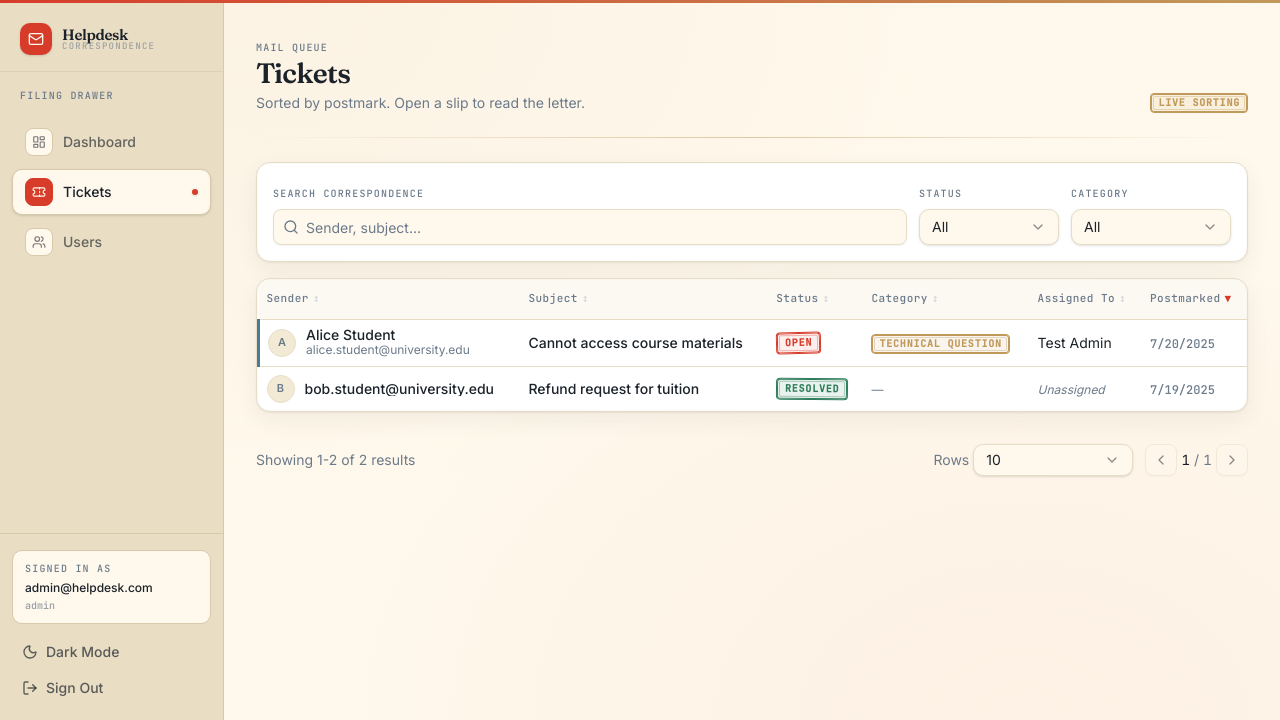
Scenario: TicketsTable filtering › clears all filters when Clear is clicked
This screenshot has width=1280, height=720.
Click the dropdown named "Status" at (989, 227), box [919,209,1059,245]
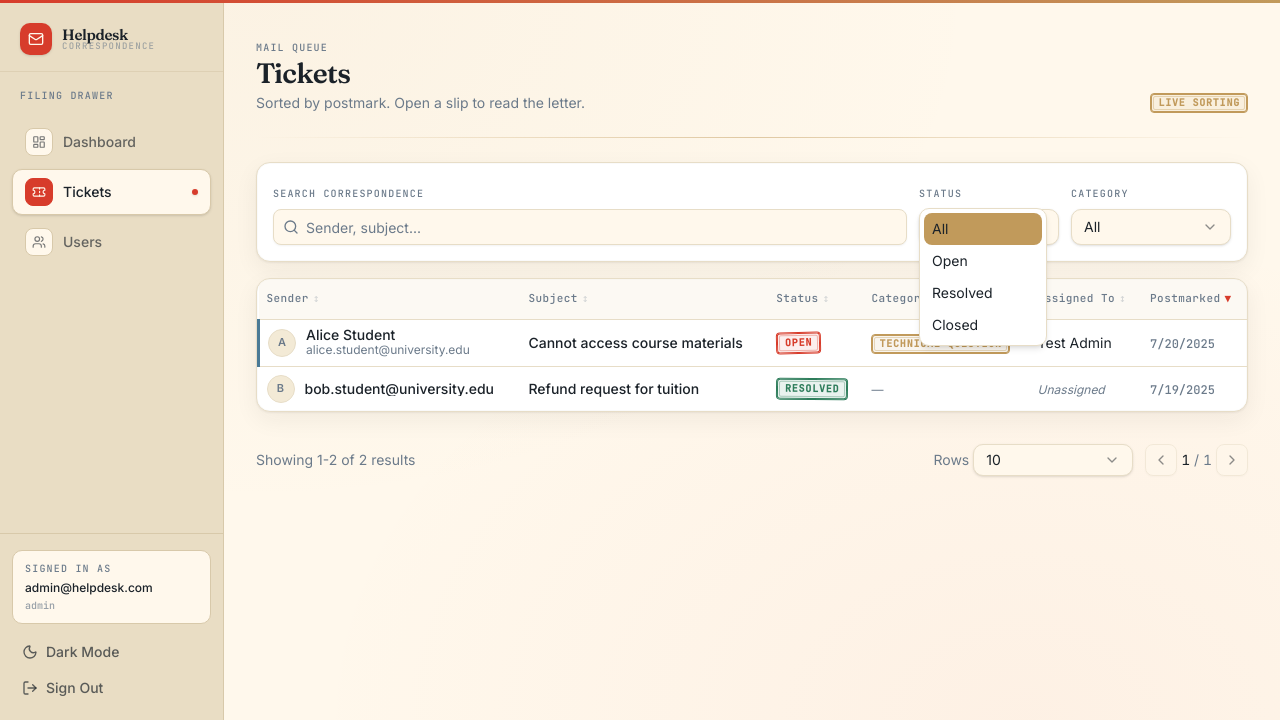
Expected: the option "Resolved" is shown
Click the option "Resolved" at (962, 292), box [932,284,992,301]
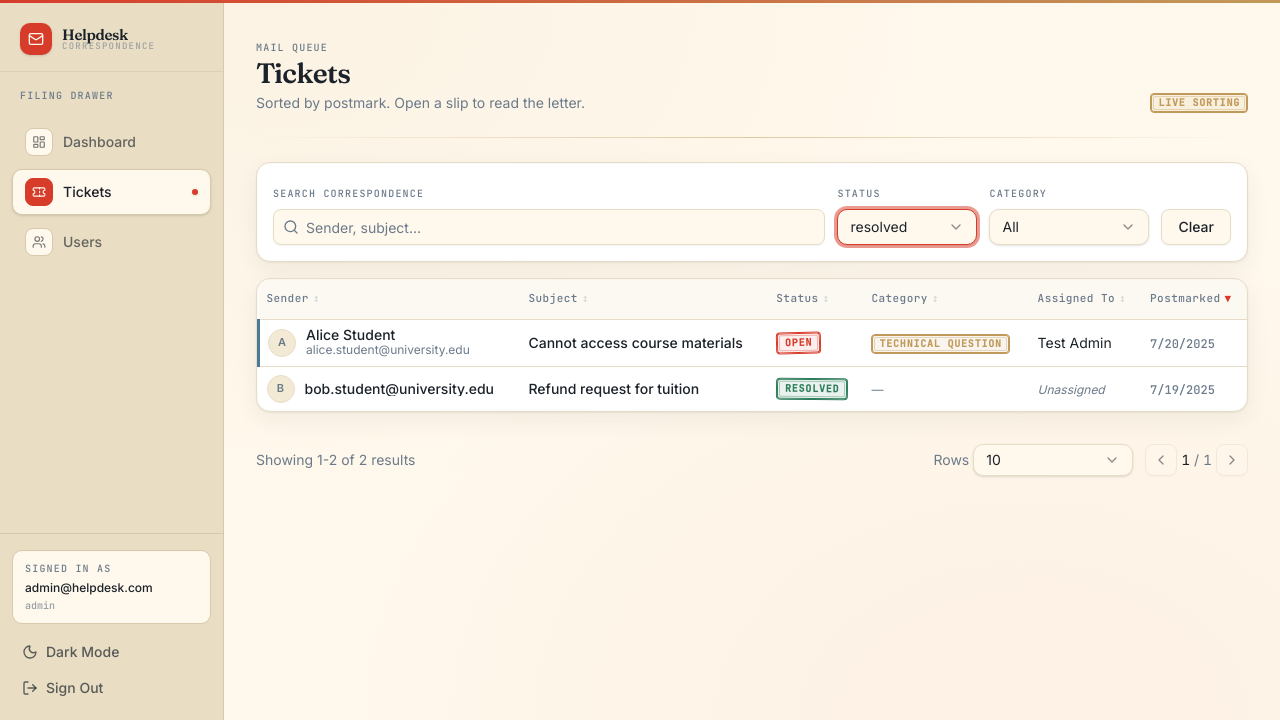
Click the button "Clear" at (1196, 227), box [1162,209,1231,245]
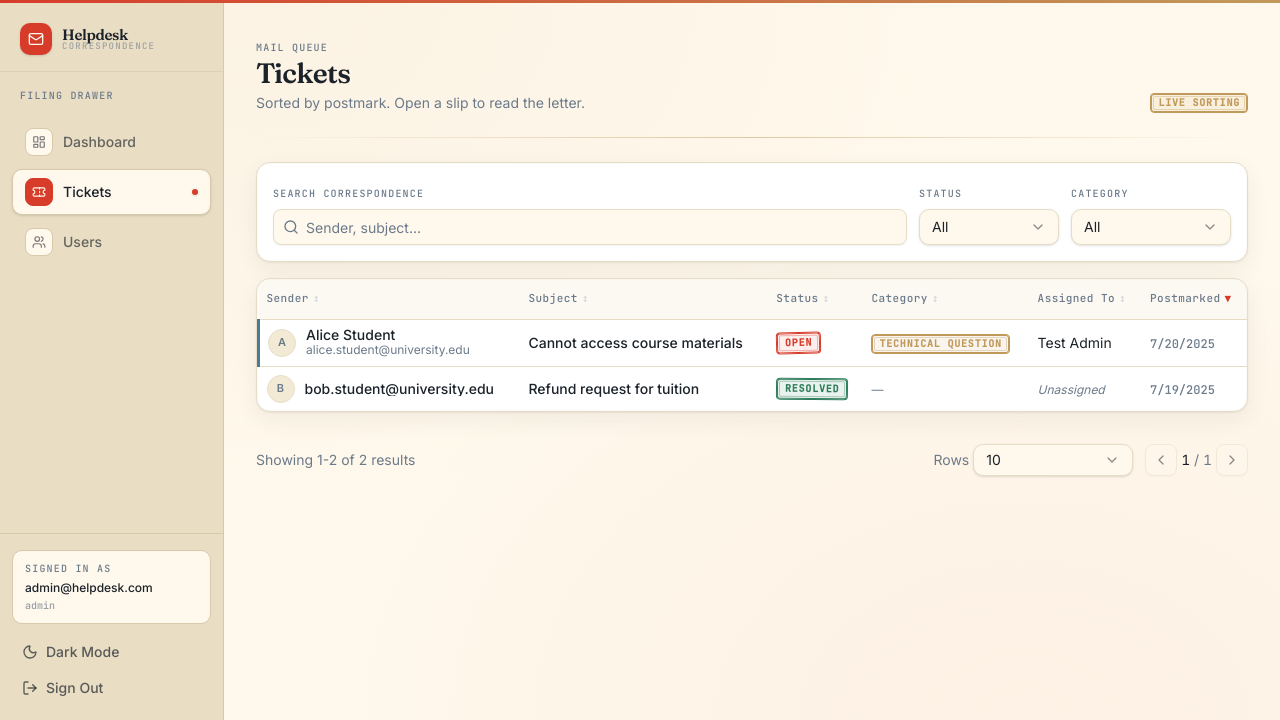
Expected: the button "Clear" is gone
Expected: the dropdown named "Status" reads "All", [919,209,1059,245]
